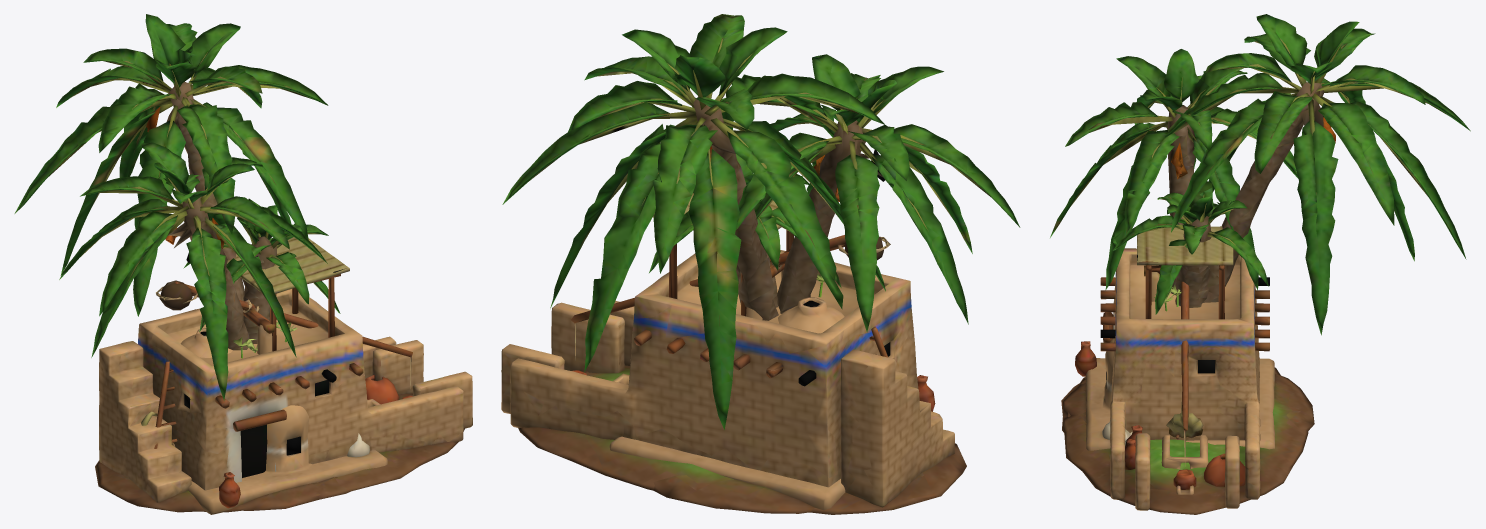
Rendered from bronze_decor_delta.glb.
The picture shows the model from 3 angles, left to right: view 1: azimuth 30°, elevation 25°; view 2: azimuth 150°, elevation 25°; view 3: azimuth 270°, elevation 25°; orthographic projection. The views are drawn at different scales.
Visible parts, largest first — view 1: House, Palm_B, Palm_A, Granary, Palm_C, Shaduf; view 2: House, Palm_B, Palm_A, Granary, Palm_C, Shaduf; view 3: House, Palm_B, Palm_A, Granary, Palm_C, Shaduf, Boat.
Boxes of the visible parts, x1,y1,x2,y2 form: House: (95,237,472,512); Palm_B: (14,14,328,316); Palm_A: (59,142,327,400); Granary: (154,328,387,514); Palm_C: (183,205,340,343); Shaduf: (156,280,412,407); House: (501,193,966,514); Palm_B: (502,14,885,429); Palm_A: (735,54,1020,332); Granary: (609,297,941,513); Palm_C: (649,154,841,307); Shaduf: (571,235,890,384); House: (1064,226,1308,514); Palm_B: (1163,14,1470,335); Palm_A: (1050,49,1298,295); Granary: (1061,338,1314,450); Palm_C: (1113,181,1268,314); Shaduf: (1144,265,1208,494); Boat: (1166,402,1203,439).
Bounding box in the file's own units: 4.6 × 4.55 × 4.38.
Materials: 1 (1 with a texture image).
